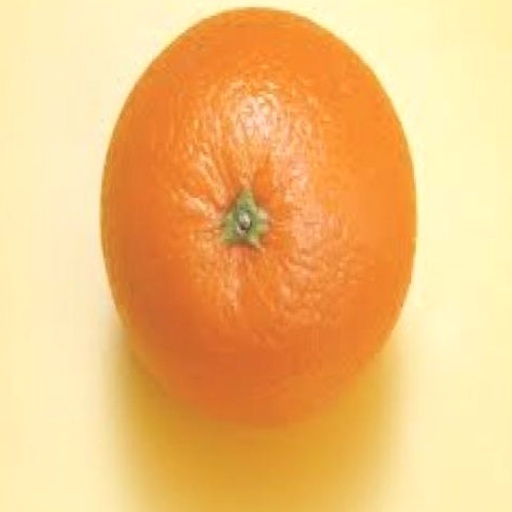fruit: (101, 10, 415, 423)
